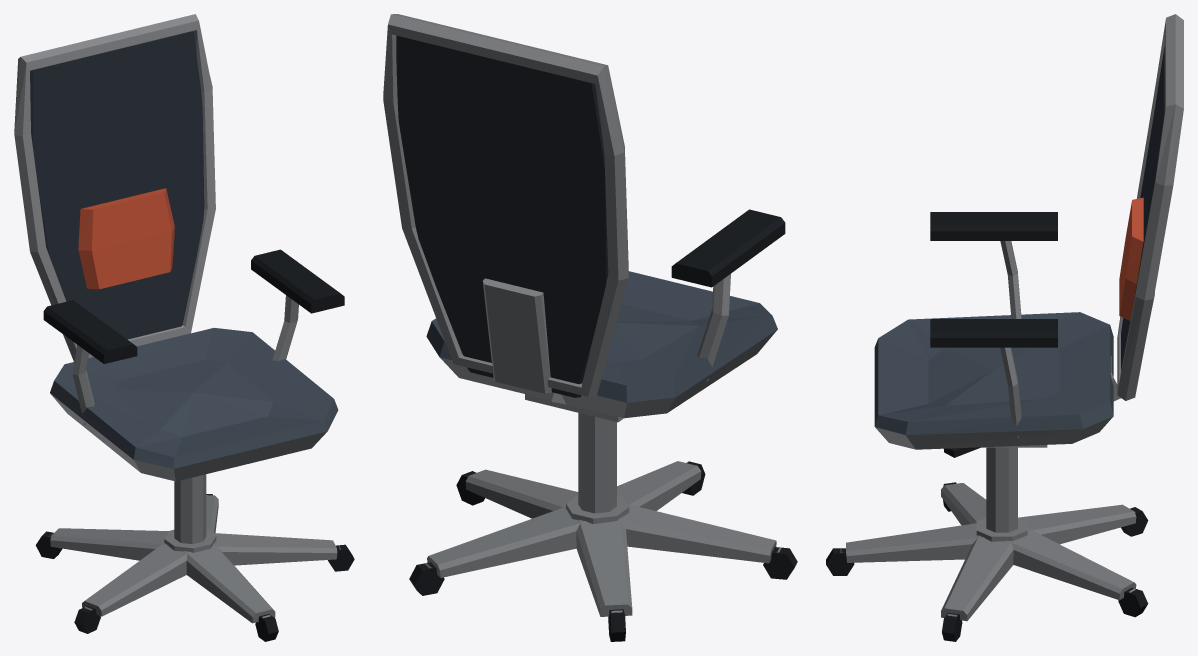
The model's file is chair.glb.
3 views of the same model, side by side, from view 1: azimuth 30°, elevation 25°; view 2: azimuth 150°, elevation 25°; view 3: azimuth 270°, elevation 25° (orthographic). The views are drawn at different scales.
Visible parts, largest first — view 1: chair-seat, chair-base, arm-l-mesh, arm-r-mesh; view 2: chair-seat, chair-base, arm-l-mesh; view 3: chair-seat, chair-base, arm-l-mesh, arm-r-mesh.
Part boxes in pixels (x1,y1,x2,y2): chair-seat: [14, 14, 338, 481]; chair-base: [35, 474, 354, 641]; arm-l-mesh: [43, 300, 137, 424]; arm-r-mesh: [251, 249, 344, 361]; chair-seat: [383, 14, 777, 422]; chair-base: [409, 413, 797, 641]; arm-l-mesh: [671, 209, 785, 381]; chair-seat: [874, 14, 1183, 449]; chair-base: [826, 447, 1148, 641]; arm-l-mesh: [930, 212, 1057, 318]; arm-r-mesh: [930, 319, 1057, 437].
Size of the model in its own units: 0.6379 by 1.07 by 0.6738.
